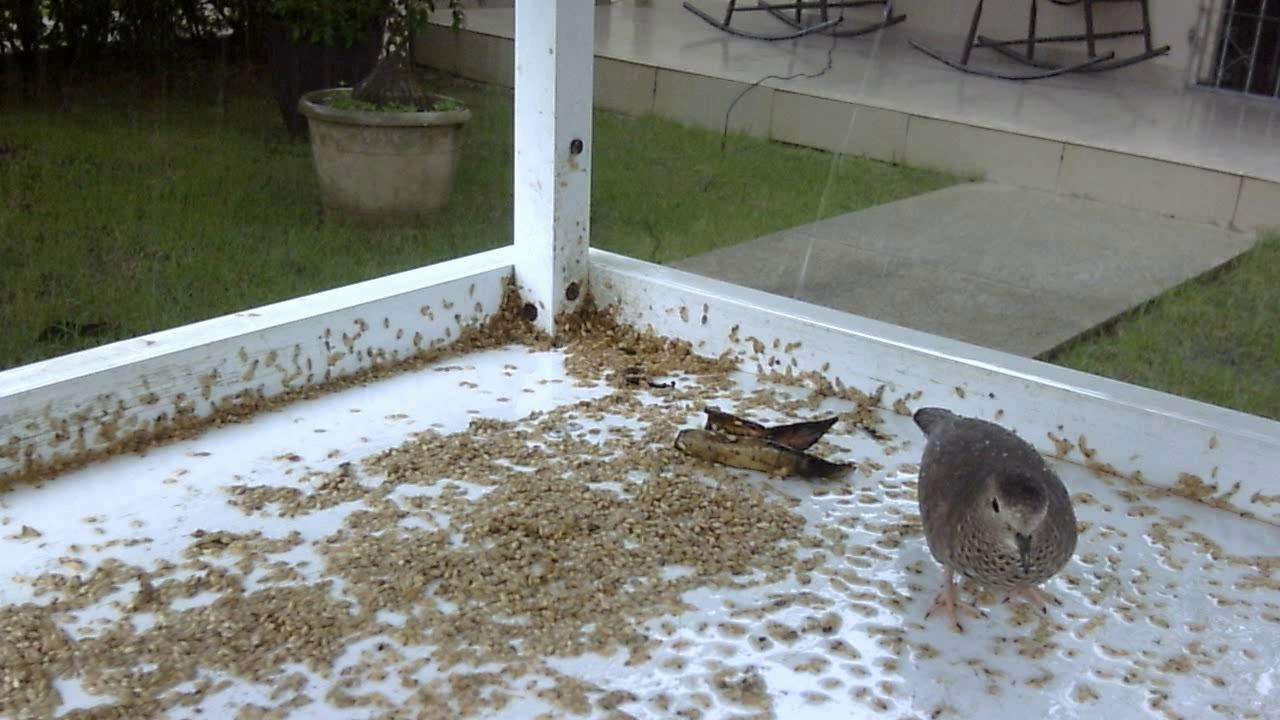rolinha: (898, 397, 1084, 636)
